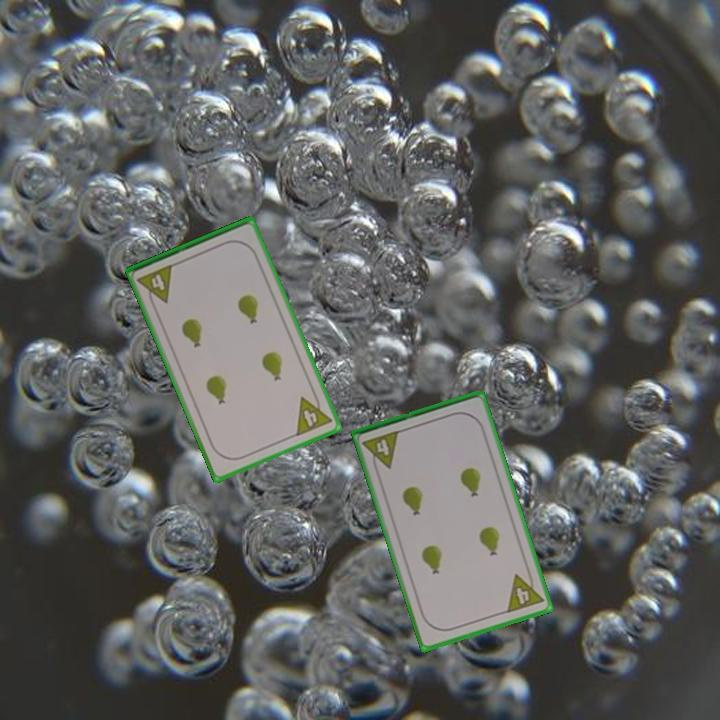4p: (292, 388, 335, 439), (503, 567, 547, 616), (134, 261, 176, 310), (359, 427, 402, 474)
